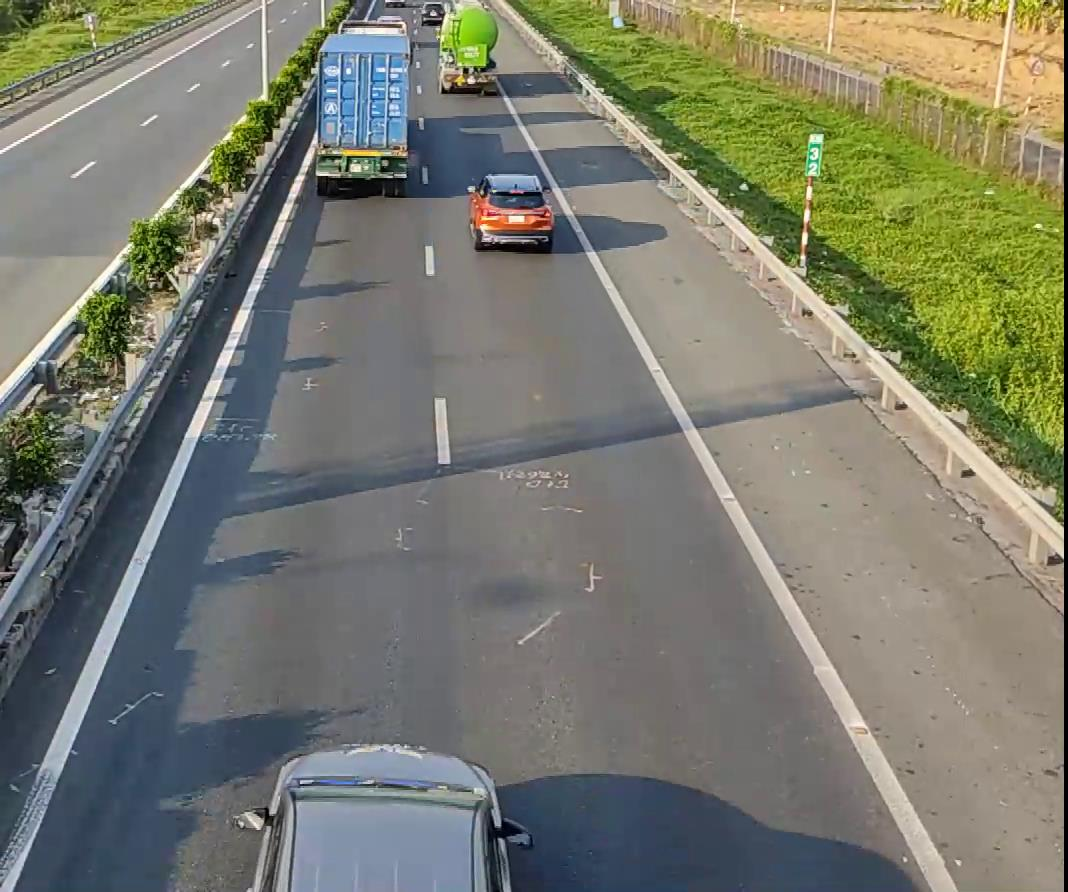car: (466, 173, 553, 251)
container: (310, 14, 413, 196)
truck: (435, 0, 498, 93)
